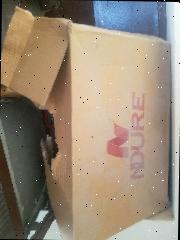paper: (0, 5, 173, 240)
